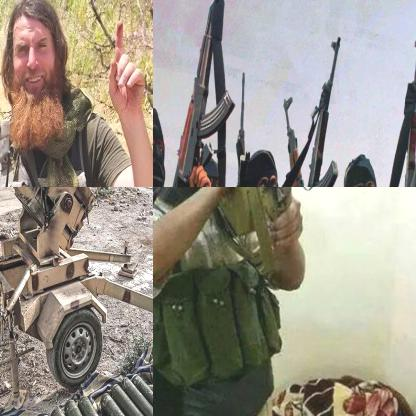rifle: (205, 187, 415, 273), (175, 0, 234, 186), (297, 36, 343, 186), (277, 94, 310, 186), (399, 30, 415, 186)
